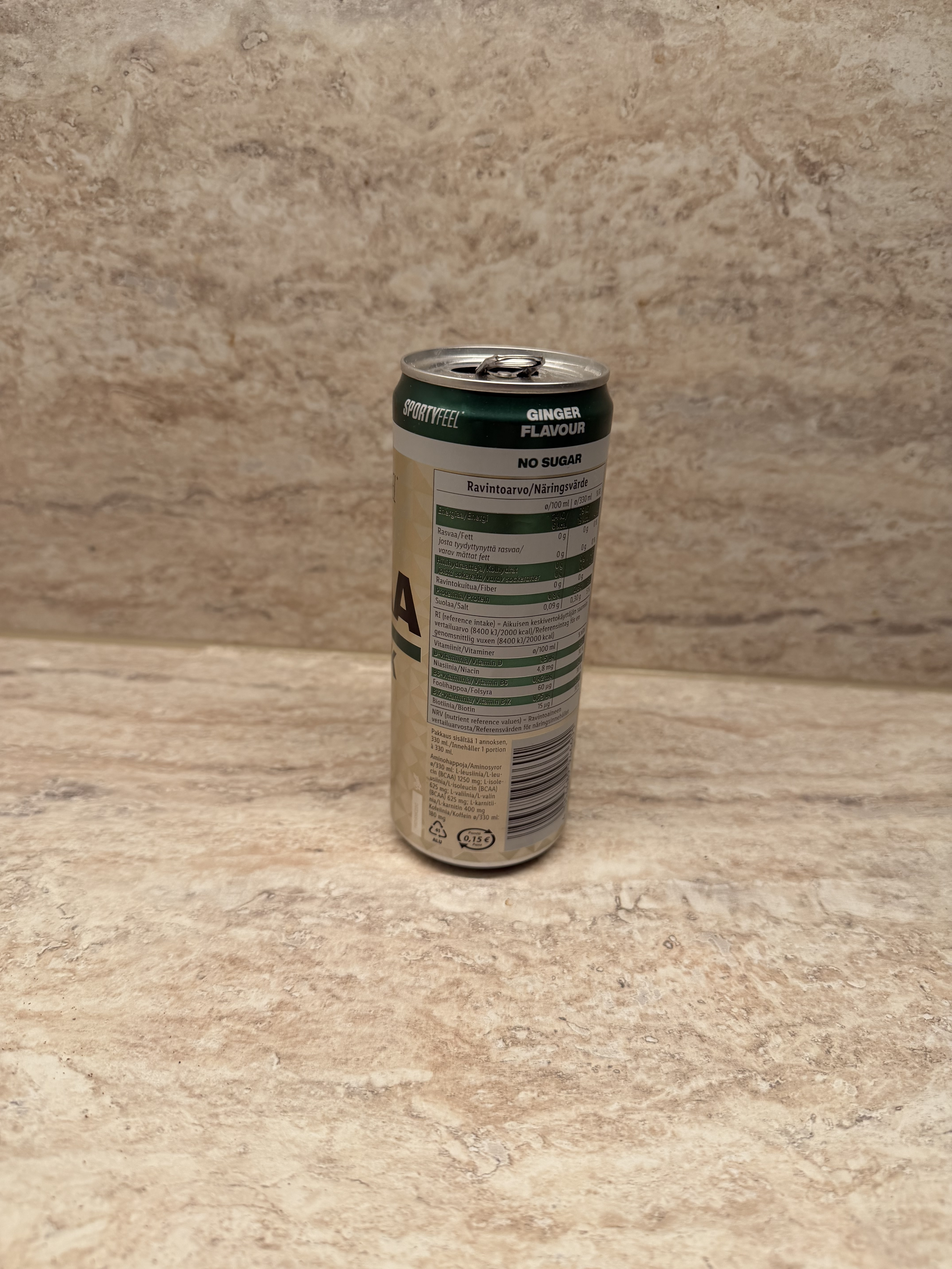Pantburk: (325, 290, 656, 884)
